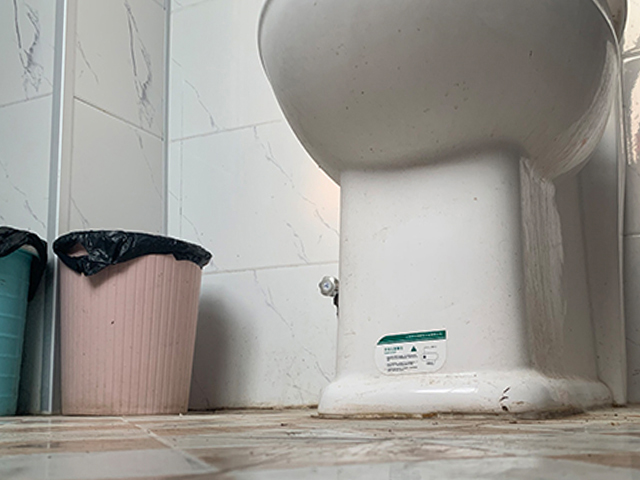closestool: (257, 1, 627, 421)
trashcan: (52, 230, 206, 416), (1, 227, 47, 416)
